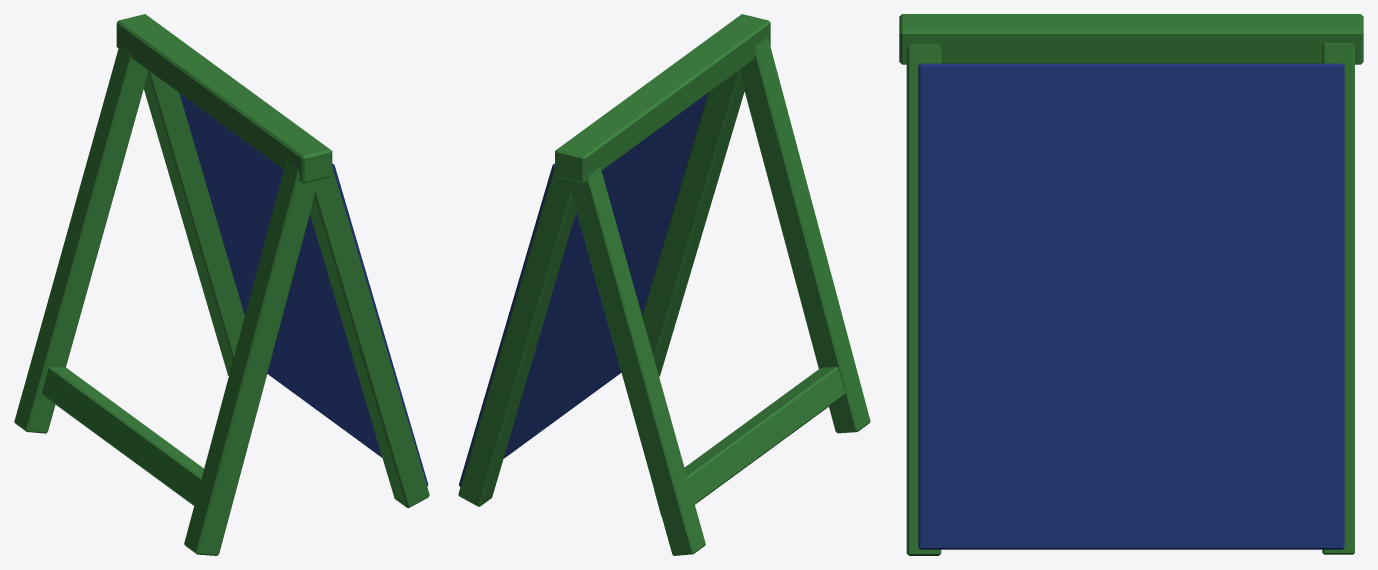
File: Textured Market Sign.fbx
3 views of the same model, side by side, from view 1: azimuth 30°, elevation 25°; view 2: azimuth 150°, elevation 25°; view 3: azimuth 270°, elevation 25° (orthographic). The views are drawn at different scales.
Visible parts, largest first — view 1: Market_Sign_Base, Market_Sign; view 2: Market_Sign_Base, Market_Sign; view 3: Market_Sign, Market_Sign_Base.
Part boxes in pixels (bbox=[...]): Market_Sign_Base: bbox=[14, 14, 429, 555]; Market_Sign: bbox=[179, 93, 428, 486]; Market_Sign_Base: bbox=[458, 14, 870, 555]; Market_Sign: bbox=[459, 93, 707, 486]; Market_Sign: bbox=[918, 63, 1344, 549]; Market_Sign_Base: bbox=[899, 14, 1363, 555].
Bounding box in the file's own units: 0.8346 × 1.27 × 1.13.
